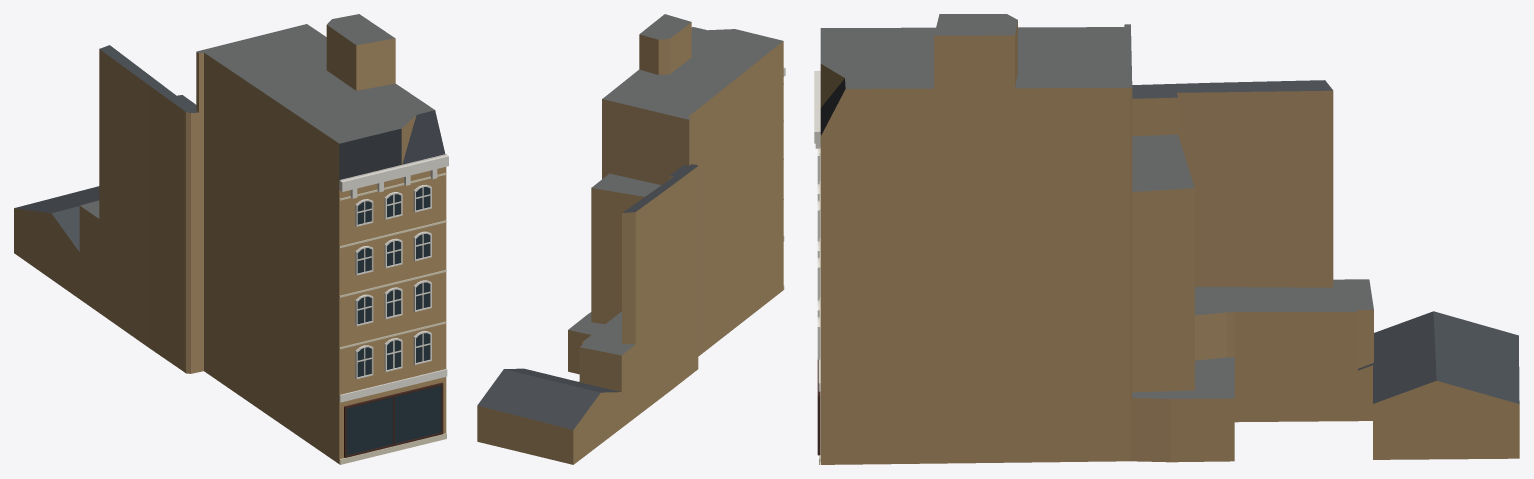
The model's file is recipe-bilder-079721.glb.
3 renders of one model, left to right at view 1: azimuth 30°, elevation 25°; view 2: azimuth 150°, elevation 25°; view 3: azimuth 270°, elevation 25°, orthographic. The views are drawn at different scales.
Parts seen in each view (by area): view 1: bilder-079721; view 2: bilder-079721; view 3: bilder-079721.
Part boxes in pixels (bbox=[...]): bilder-079721: bbox=[14, 14, 448, 464]; bilder-079721: bbox=[477, 14, 785, 464]; bilder-079721: bbox=[814, 14, 1519, 464].
Size of the model in its own units: 7.9 by 20.54 by 30.63.
